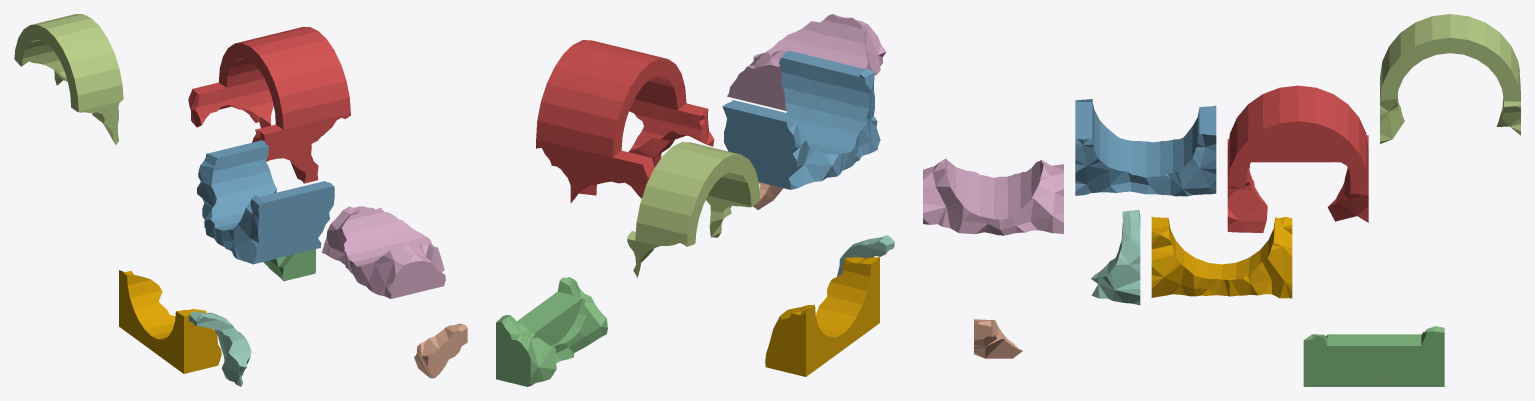
Rendered from mode_13_8pcs_transformed.glb.
The picture shows the model from 3 angles, left to right: view 1: azimuth 30°, elevation 25°; view 2: azimuth 150°, elevation 25°; view 3: azimuth 270°, elevation 25°; orthographic projection. The views are drawn at different scales.
Visible parts, largest first — view 1: piece_1.obj, piece_2.obj, piece_6.obj, piece_5.obj, piece_0.obj, piece_4.obj, piece_7.obj, piece_3.obj; view 2: piece_1.obj, piece_2.obj, piece_5.obj, piece_0.obj, piece_3.obj, piece_6.obj, piece_4.obj, piece_7.obj; view 3: piece_1.obj, piece_2.obj, piece_6.obj, piece_5.obj, piece_3.obj, piece_0.obj, piece_4.obj, piece_7.obj.
Part boxes in pixels (x1,y1,x2,y2): piece_1.obj: (188,27,350,183); piece_2.obj: (197,140,334,264); piece_6.obj: (322,206,445,298); piece_5.obj: (14,14,123,144); piece_0.obj: (119,270,221,373); piece_4.obj: (189,311,251,386); piece_7.obj: (414,323,467,378); piece_3.obj: (262,249,315,281); piece_1.obj: (536,40,714,203); piece_2.obj: (722,50,880,189); piece_5.obj: (627,142,760,277); piece_0.obj: (765,257,879,376); piece_3.obj: (496,277,607,386); piece_6.obj: (727,14,886,110); piece_4.obj: (837,235,894,276); piece_7.obj: (753,182,783,209); piece_1.obj: (1227,85,1368,232); piece_2.obj: (1075,99,1216,196); piece_6.obj: (923,158,1063,235); piece_5.obj: (1380,14,1520,143); piece_3.obj: (1303,326,1444,386); piece_0.obj: (1151,216,1292,298); piece_4.obj: (1091,210,1140,305); piece_7.obj: (974,319,1022,358).
Size of the model in its own units: 1 by 1.16 by 2.36.
